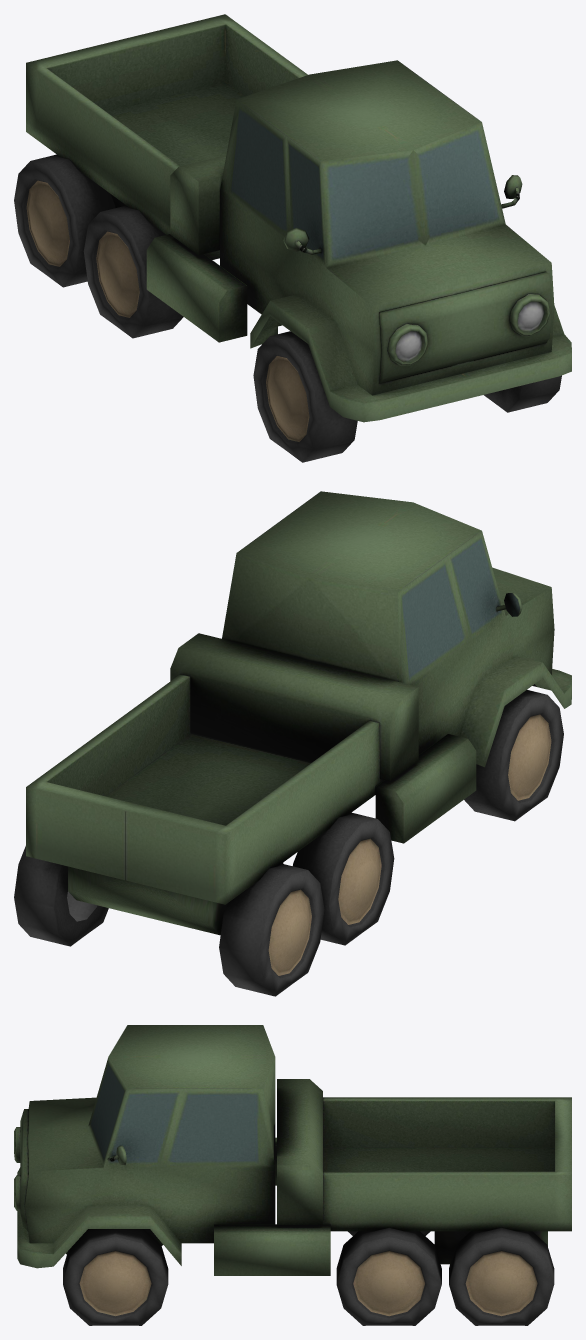
Rendered from carrito.fbx.
3 renders of one model, top to bottom at view 1: azimuth 30°, elevation 25°; view 2: azimuth 150°, elevation 25°; view 3: azimuth 270°, elevation 25°, orthographic. The views are drawn at different scales.
Visible parts, largest first — view 1: GreenTruck; view 2: GreenTruck; view 3: GreenTruck.
Boxes of the visible parts, x1=… form: GreenTruck: x1=14, y1=14, x2=571, y2=462; GreenTruck: x1=14, y1=491, x2=571, y2=996; GreenTruck: x1=14, y1=1025, x2=571, y2=1325.
Bounding box in the file's own units: 287 × 292 × 669.
1 material, 1 textured.
